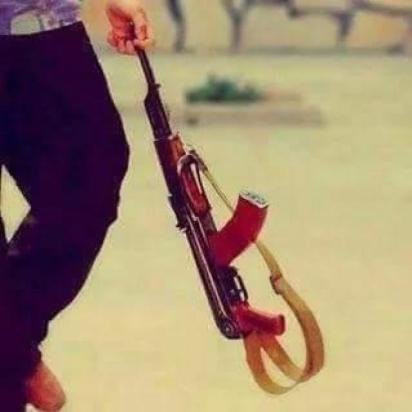Gun: (120, 15, 289, 344)
